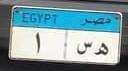1: (34, 30, 42, 54)
haa: (93, 40, 108, 59)
seen: (75, 39, 93, 57)
